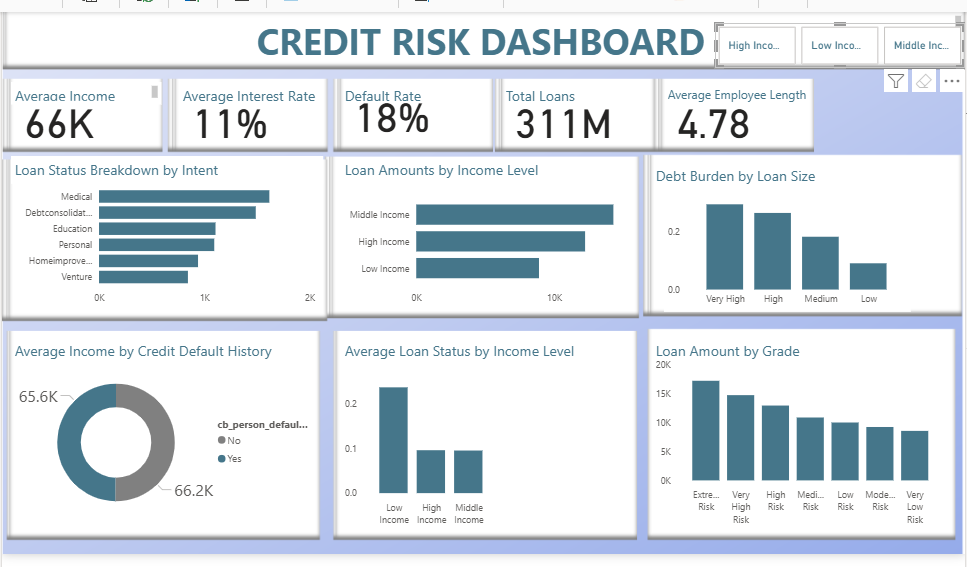

This screenshot's page, from the dashboard's own definition file:
{"tool":"powerbi","page":{"name":"Page 3","canvas":[1280,720],"ordinal":2},"visuals":[{"type":"cardVisual","fields":{"Data":["bank credit_risk_dataset.average_income"]},"box":[11.7,93.3,200,85],"z":0},{"type":"cardVisual","fields":{"Data":["bank credit_risk_dataset.avg_int_rate"]},"box":[235,93.3,191.7,85],"z":1000},{"type":"cardVisual","fields":{"Data":["bank credit_risk_dataset.default_rate"]},"box":[450,81.7,151.7,110],"z":2000},{"type":"cardVisual","fields":{"Data":["bank credit_risk_dataset.total_loans"]},"box":[665,93.3,175,85],"z":3000},{"type":"cardVisual","fields":{"Data":["Avg(bank credit_risk_dataset.person_emp_length)"]},"box":[880,93.3,191.7,85],"z":4000},{"type":"textbox","box":[0,0,1280,73.3],"z":5000},{"type":"clusteredBarChart","fields":{"Category":["bank credit_risk_dataset.loan_intent"],"Y":["Sum(bank credit_risk_dataset.loan_status)"]},"box":[11.7,215,415,183.3],"z":6000},{"type":"textbox","box":[11.7,191.7,415,36.7],"z":7000},{"type":"textbox","box":[11.7,93.3,200,30],"z":8000},{"type":"textbox","box":[235,93.3,191.7,43.3],"z":9000},{"type":"textbox","box":[450,93.3,201.7,43.3],"z":10000},{"type":"textbox","box":[665,93.3,198.3,98.3],"z":11000},{"type":"textbox","box":[880,93.3,250,43.3],"z":12000},{"type":"clusteredBarChart","fields":{"Category":["bank credit_risk_dataset.income_category"],"Y":["Avg(bank credit_risk_dataset.loan_amnt)"]},"box":[450,228.3,390,170],"z":13000},{"type":"textbox","box":[450,191.7,390,48.3],"z":14000},{"type":"clusteredColumnChart","fields":{"Y":["Avg(bank credit_risk_dataset.loan_percent_income)"],"Category":["bank credit_risk_dataset.loan_amnt_band"]},"box":[880,240,328.3,158.3],"z":15000},{"type":"donutChart","fields":{"Category":["bank credit_risk_dataset.cb_person_default_on_file"],"Y":["Avg(bank credit_risk_dataset.person_income)"]},"box":[11.7,455,403.3,235],"z":16000},{"type":"clusteredColumnChart","fields":{"Y":["Avg(bank credit_risk_dataset.loan_status)"],"Category":["bank credit_risk_dataset.income_category"]},"box":[450,476.7,215,213.3],"z":17000},{"type":"textbox","box":[450,431.7,390,45],"z":18000},{"type":"clusteredColumnChart","fields":{"Category":["bank credit_risk_dataset.loan_grade_label"],"Y":["Avg(bank credit_risk_dataset.loan_amnt)"]},"box":[863.3,455,391.7,235],"z":19000},{"type":"textbox","box":[11.7,431.7,403.3,45],"z":21000},{"type":"textbox","box":[863.3,431.7,391.7,45],"z":22000},{"type":"textbox","box":[863.3,200,416.7,56.7],"z":23000},{"type":"advancedSlicerVisual","fields":{"Values":["bank credit_risk_dataset.income_category"]},"box":[948,14,332,60],"z":24000}]}

Visuals, with their boxes on the page's 1280x720 design canvas (x1, y1, x2, y2). These are canvas units, not pixel positions in the 967x567 screenshot, which may show the page scaled, cropped or inside an application window:
cardVisual - bank credit_risk_dataset.average_income: (x1=12, y1=93, x2=212, y2=178)
cardVisual - bank credit_risk_dataset.avg_int_rate: (x1=235, y1=93, x2=427, y2=178)
cardVisual - bank credit_risk_dataset.default_rate: (x1=450, y1=82, x2=602, y2=192)
cardVisual - bank credit_risk_dataset.total_loans: (x1=665, y1=93, x2=840, y2=178)
cardVisual - Avg(bank credit_risk_dataset.person_emp_length): (x1=880, y1=93, x2=1072, y2=178)
textbox: (x1=0, y1=0, x2=1280, y2=73)
clusteredBarChart - bank credit_risk_dataset.loan_intent x Sum(bank credit_risk_dataset.loan_status): (x1=12, y1=215, x2=427, y2=398)
textbox: (x1=12, y1=192, x2=427, y2=228)
textbox: (x1=12, y1=93, x2=212, y2=123)
textbox: (x1=235, y1=93, x2=427, y2=137)
textbox: (x1=450, y1=93, x2=652, y2=137)
textbox: (x1=665, y1=93, x2=863, y2=192)
textbox: (x1=880, y1=93, x2=1130, y2=137)
clusteredBarChart - bank credit_risk_dataset.income_category x Avg(bank credit_risk_dataset.loan_amnt): (x1=450, y1=228, x2=840, y2=398)
textbox: (x1=450, y1=192, x2=840, y2=240)
clusteredColumnChart - Avg(bank credit_risk_dataset.loan_percent_income) x bank credit_risk_dataset.loan_amnt_band: (x1=880, y1=240, x2=1208, y2=398)
donutChart - bank credit_risk_dataset.cb_person_default_on_file x Avg(bank credit_risk_dataset.person_income): (x1=12, y1=455, x2=415, y2=690)
clusteredColumnChart - Avg(bank credit_risk_dataset.loan_status) x bank credit_risk_dataset.income_category: (x1=450, y1=477, x2=665, y2=690)
textbox: (x1=450, y1=432, x2=840, y2=477)
clusteredColumnChart - bank credit_risk_dataset.loan_grade_label x Avg(bank credit_risk_dataset.loan_amnt): (x1=863, y1=455, x2=1255, y2=690)
textbox: (x1=12, y1=432, x2=415, y2=477)
textbox: (x1=863, y1=432, x2=1255, y2=477)
textbox: (x1=863, y1=200, x2=1280, y2=257)
advancedSlicerVisual - bank credit_risk_dataset.income_category: (x1=948, y1=14, x2=1280, y2=74)
